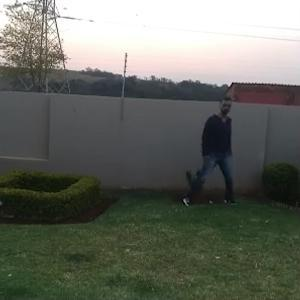follow: (191, 95, 240, 206)
